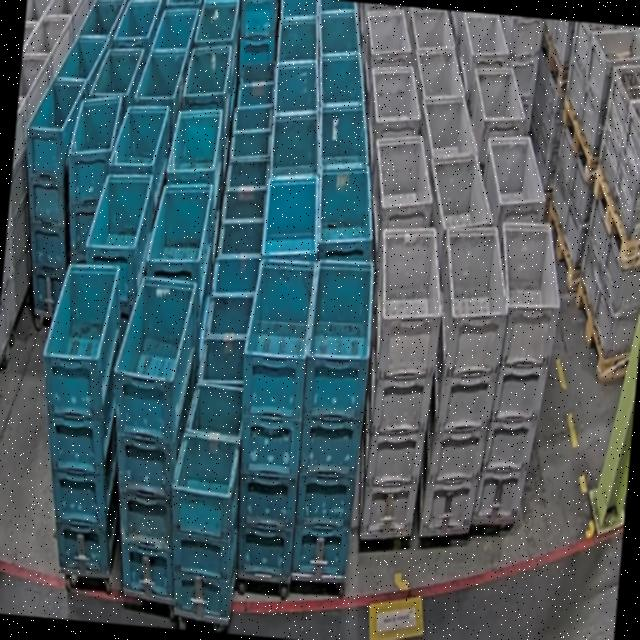4G: (414, 219, 516, 538), (353, 219, 450, 542), (469, 215, 568, 528)
B4: (23, 256, 140, 576), (93, 273, 206, 599), (222, 255, 318, 580), (284, 255, 378, 580), (11, 75, 88, 328), (56, 88, 124, 267)
B8: (160, 378, 252, 620)
